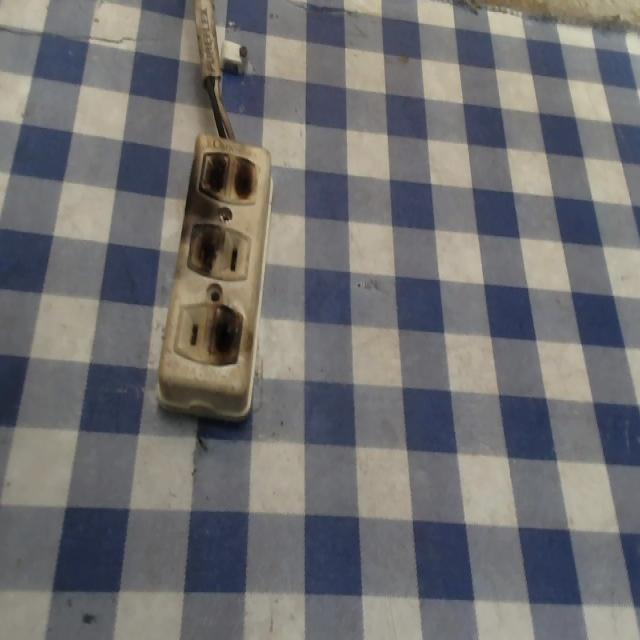-: (194, 144, 261, 208), (204, 299, 244, 373), (186, 227, 226, 274)
